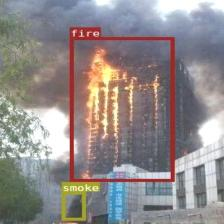fire: (69, 37, 173, 181)
smoke: (61, 191, 85, 220)
